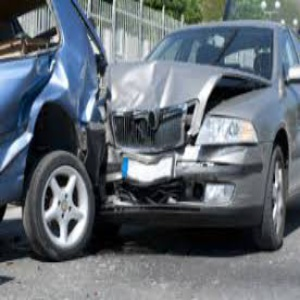bonnet: (24, 119, 95, 162)
